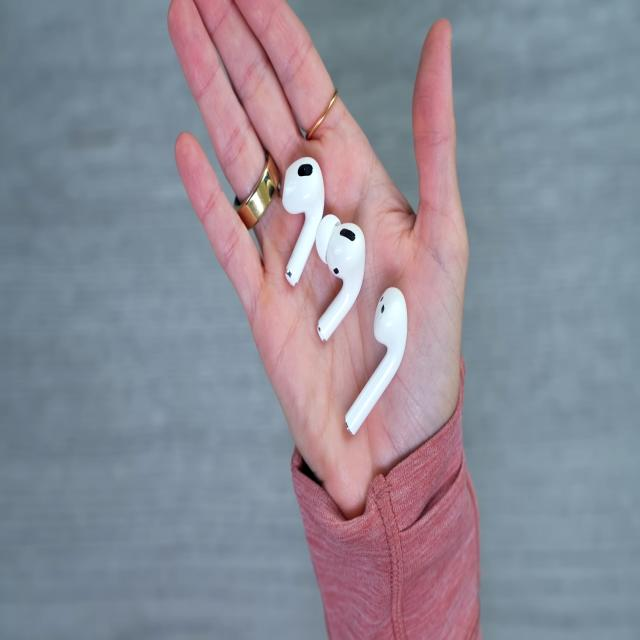airpods: (341, 282, 410, 439), (314, 214, 368, 345), (281, 150, 326, 290)
